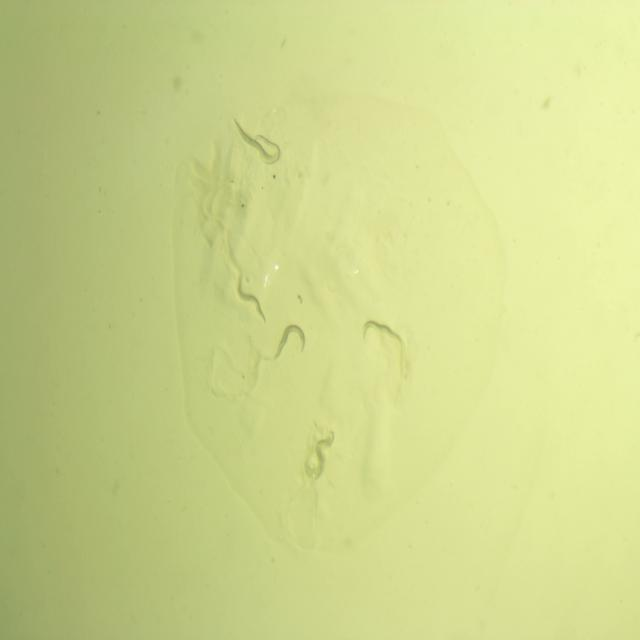worm: (354, 300, 406, 359), (227, 111, 282, 162), (267, 320, 324, 368), (301, 426, 339, 484), (234, 267, 266, 328), (249, 130, 290, 166)
